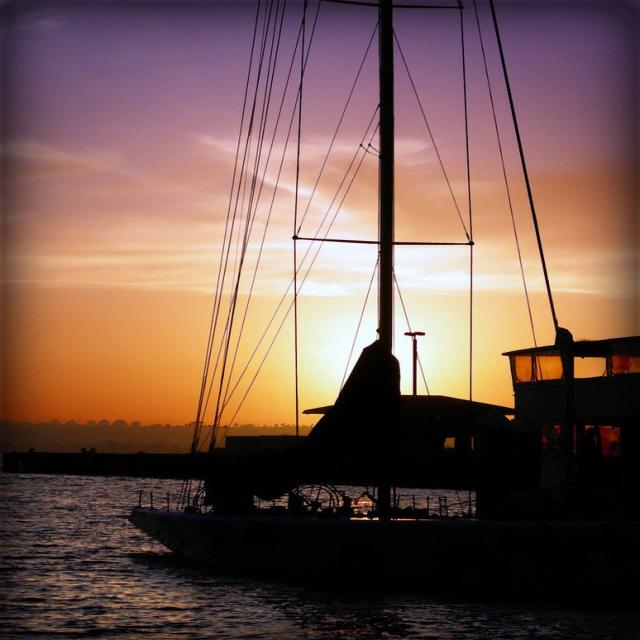Boat: (106, 0, 640, 591)
